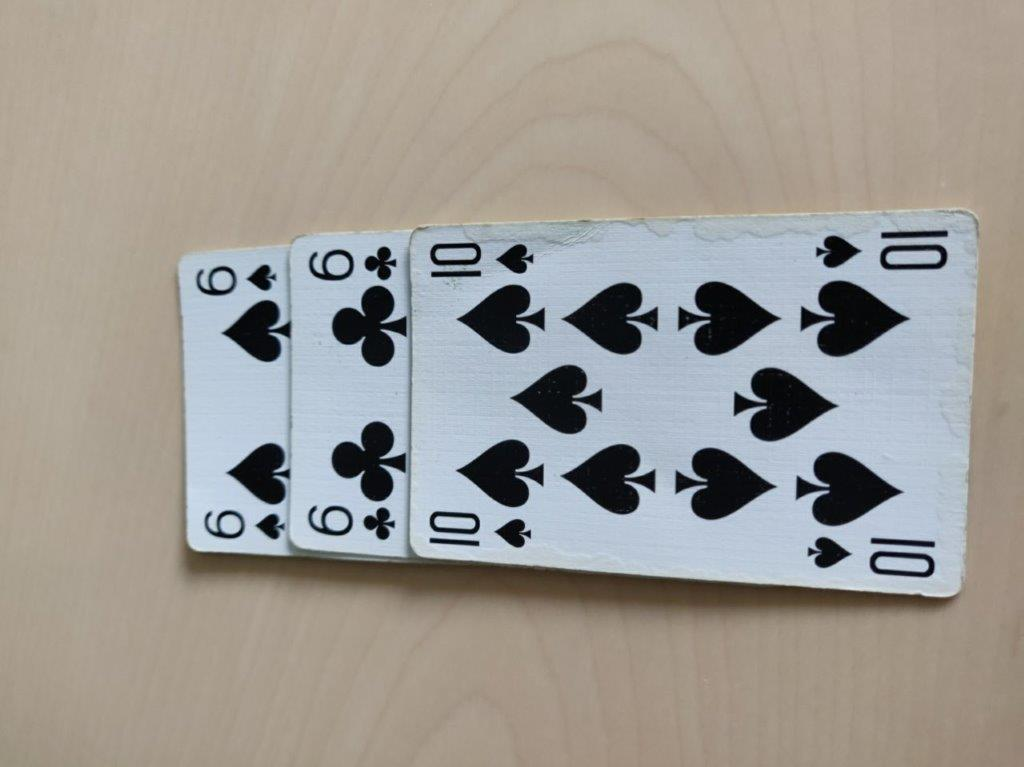10S: (416, 217, 965, 583)
6C: (293, 232, 411, 553)
6S: (178, 252, 295, 553)
